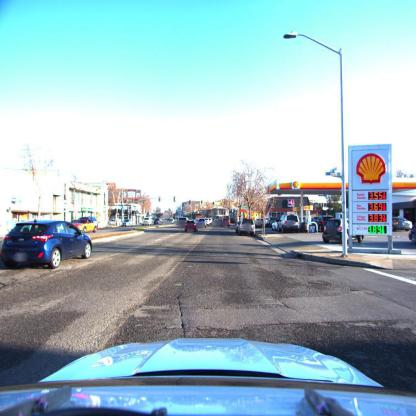bus: (209, 206, 232, 227)
car: (0, 335, 416, 416), (0, 219, 95, 271), (322, 219, 350, 245), (72, 217, 99, 234), (282, 214, 301, 233), (237, 218, 256, 235), (185, 218, 205, 232), (393, 217, 412, 231), (120, 218, 134, 228), (143, 216, 155, 226), (308, 221, 318, 233), (108, 218, 118, 228), (168, 217, 176, 225)
